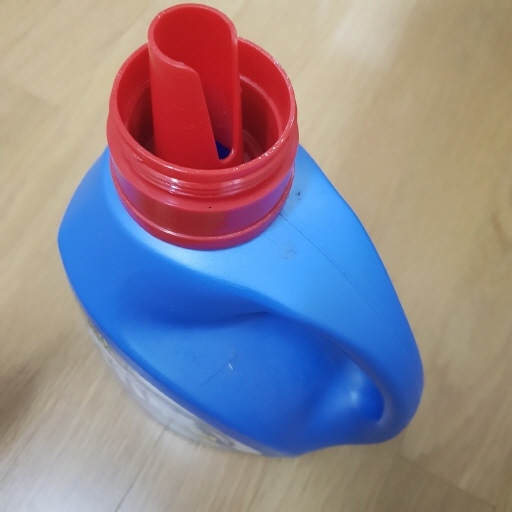Plastic_1: (61, 1, 425, 459)
